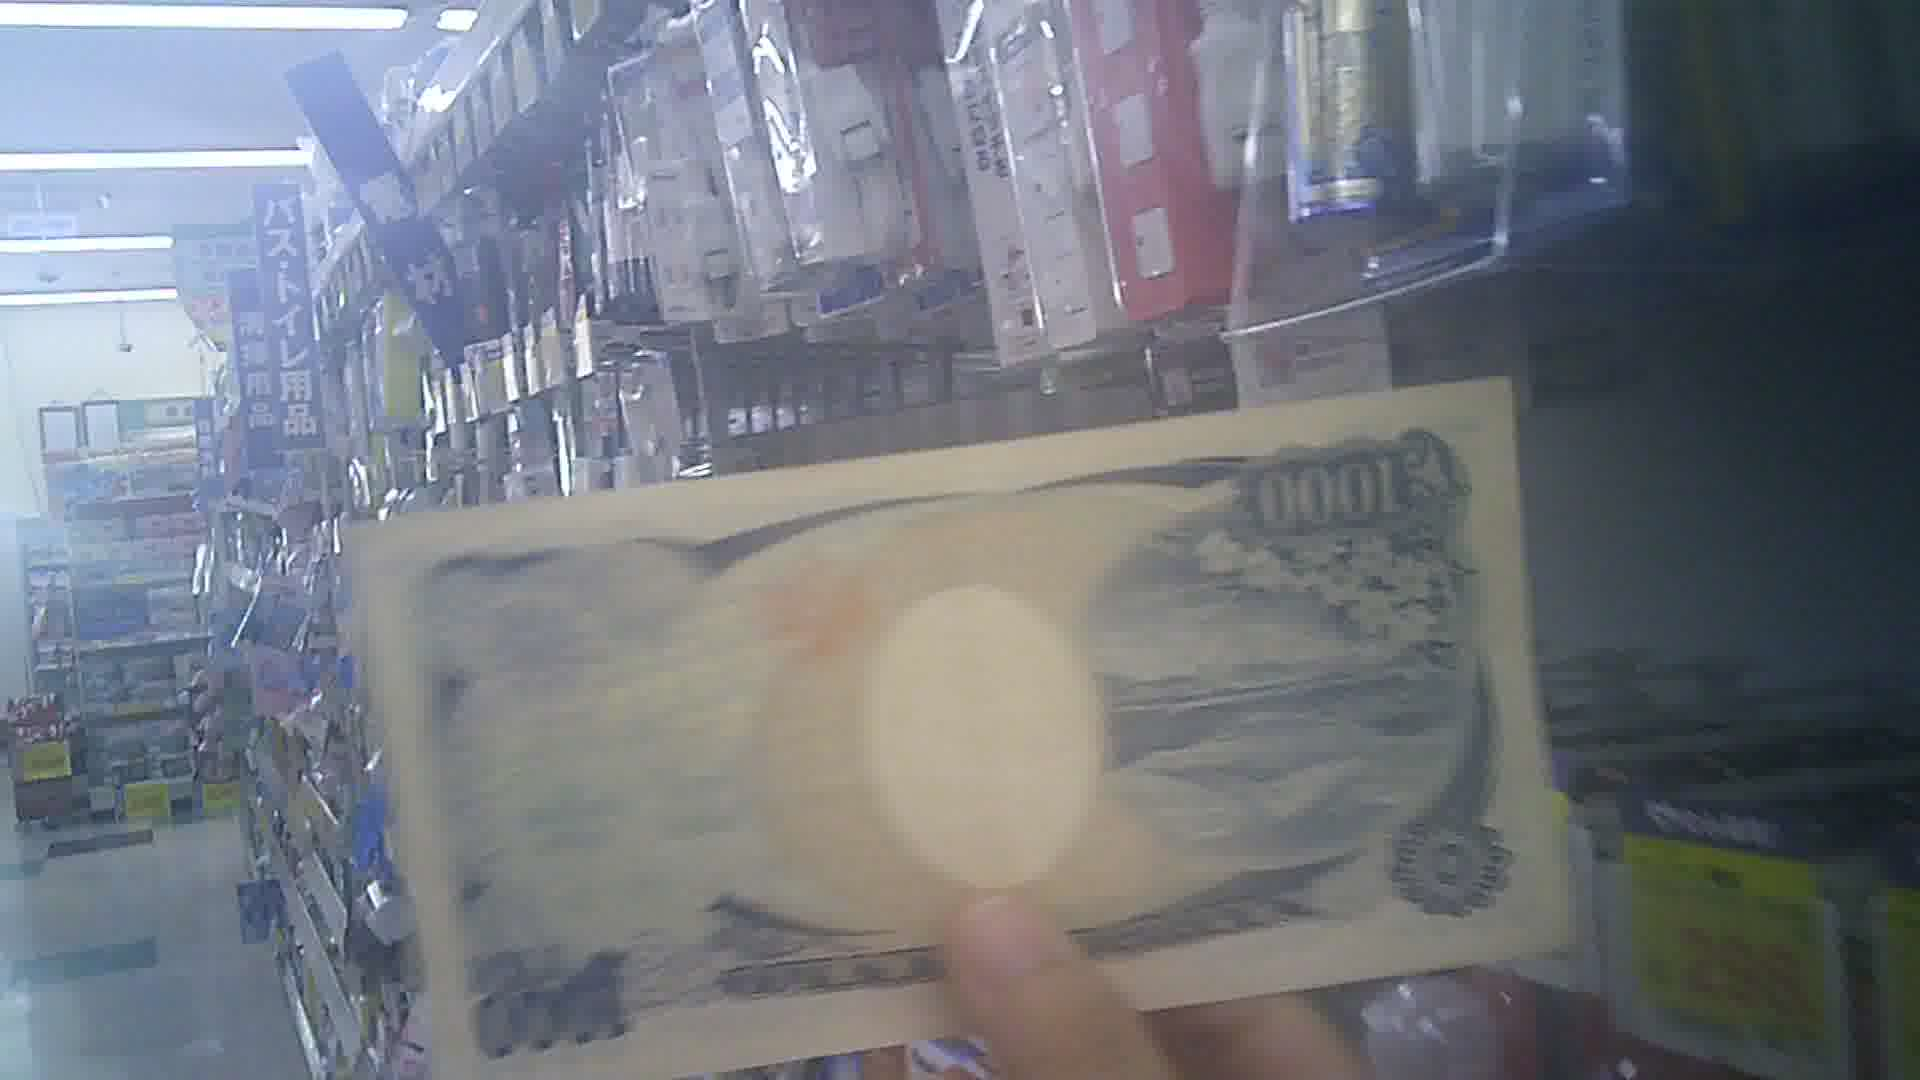1,000 Yen: (360, 392, 1573, 1079)
